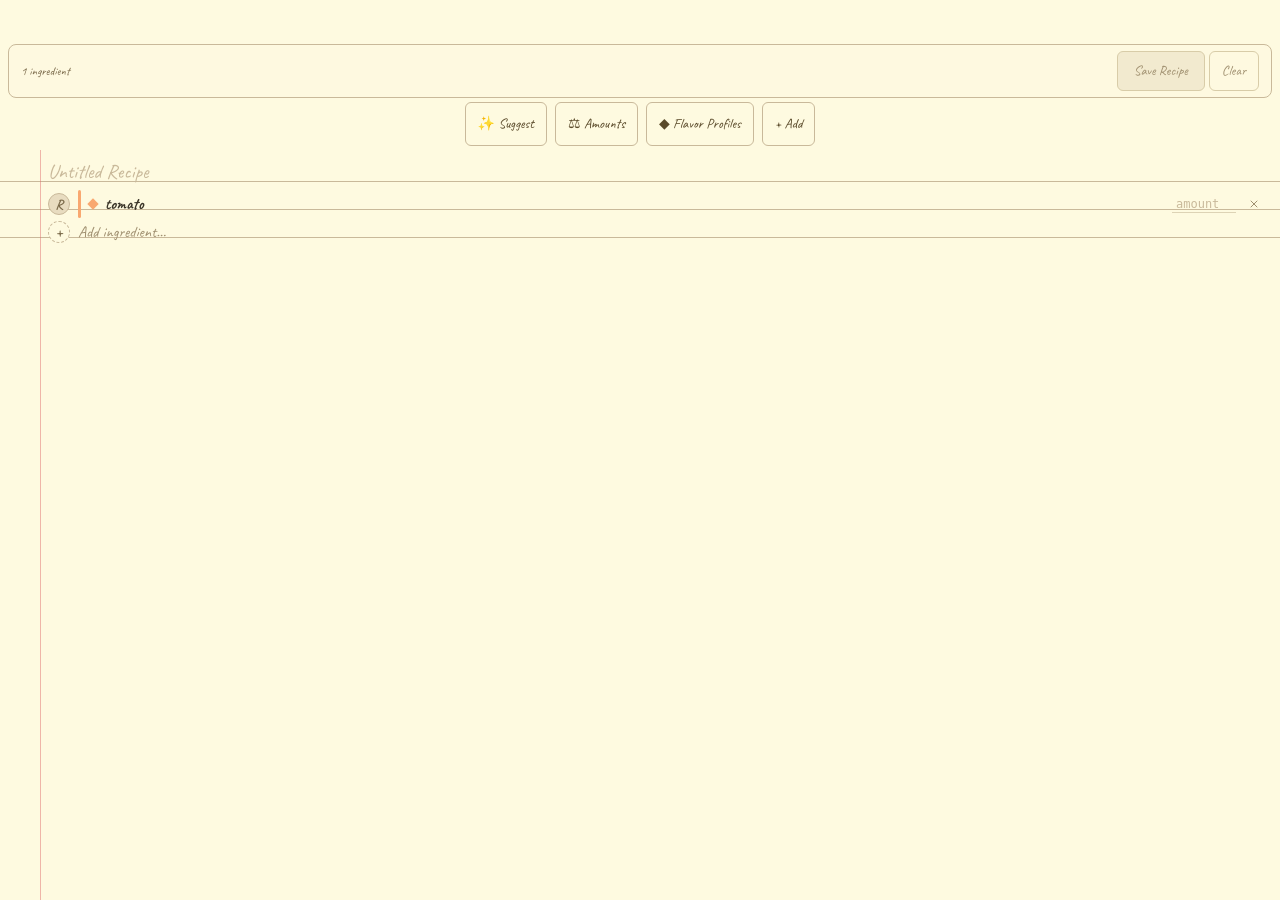
it: RecipeLabMobile — RL-PORTIONS-UI bowl shape + amount input › "a pinch" surfaces a chip with just the unit (no qty prefix)
The width and height of the screenshot is (1280, 900).
Step 1. Type "a pinch" into the field with test id "amount-input-tomato" → (1204, 204), box [1172, 196, 1236, 212]
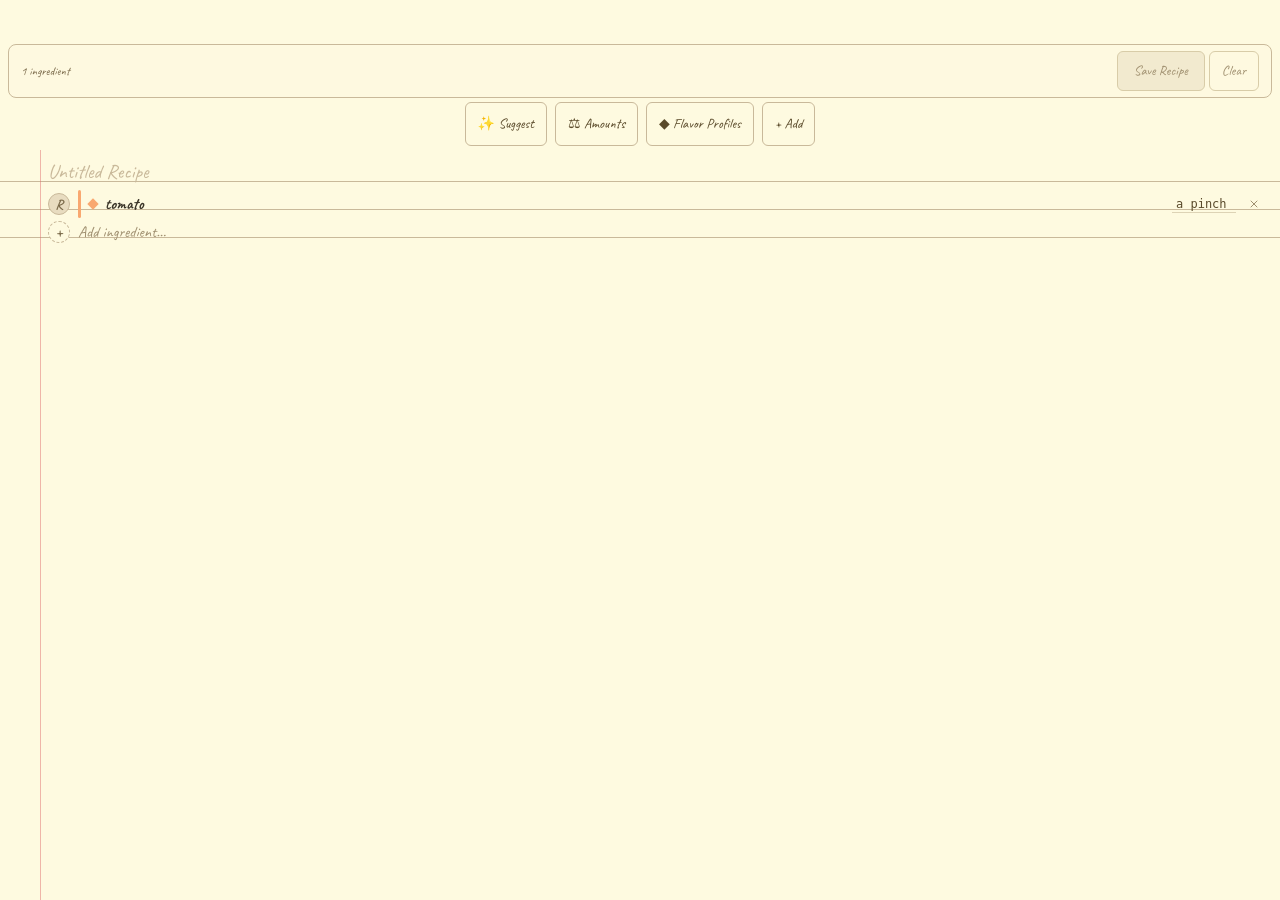
Step 2. Leave the field with test id "amount-input-tomato", box [1172, 196, 1236, 212]
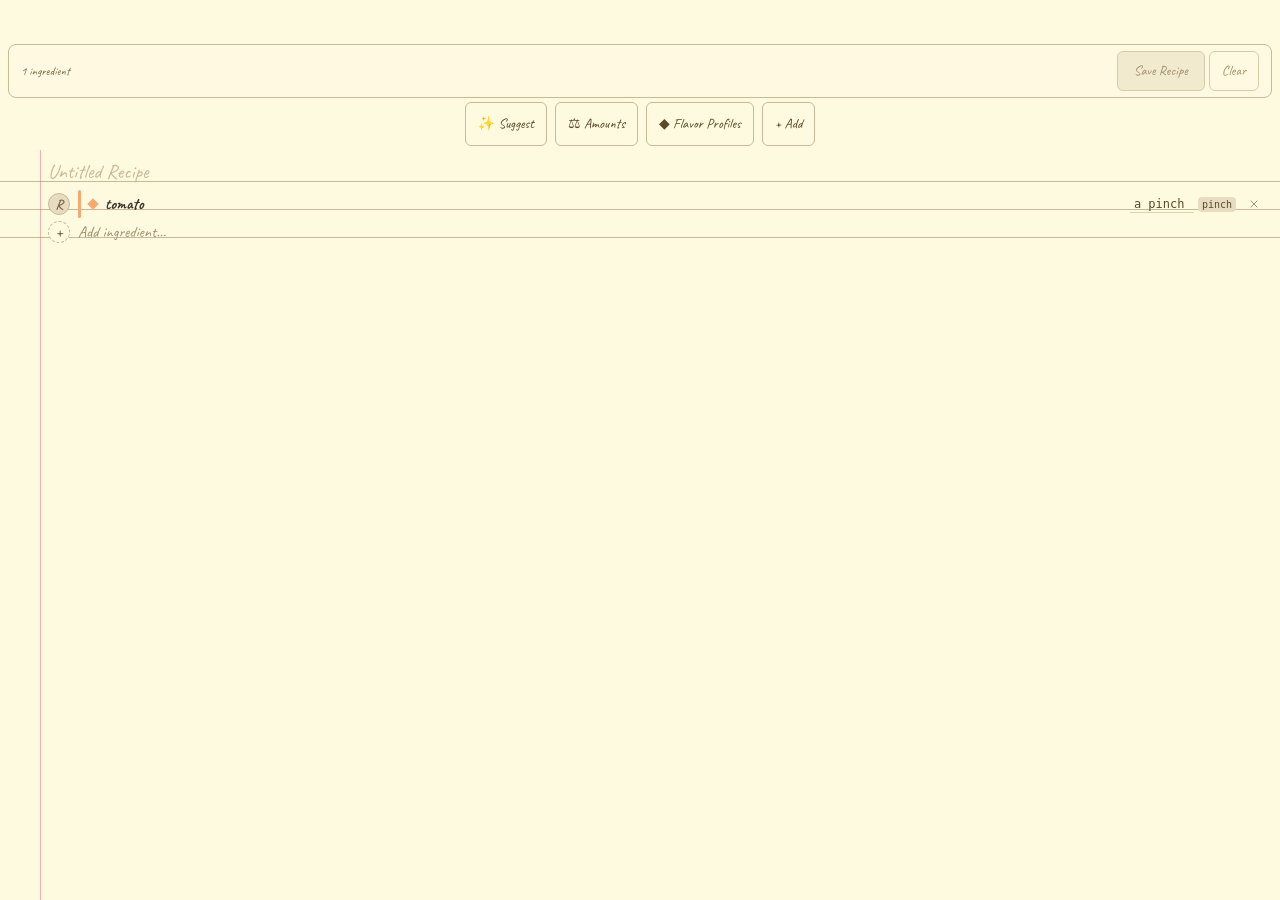
Check: the text with test id "amount-chip-tomato" reads "pinch", box [1202, 198, 1232, 210]
